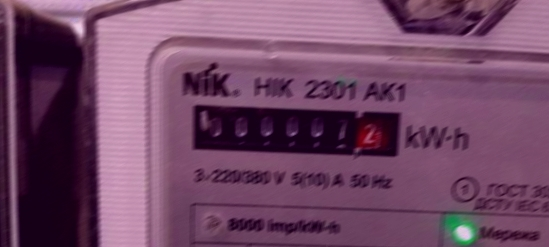0: (206, 113, 221, 138), (283, 114, 298, 138), (308, 115, 323, 138), (258, 114, 272, 138), (232, 115, 246, 137)
2: (361, 121, 375, 145)
7: (334, 116, 347, 141)
screen: (179, 91, 409, 169)
